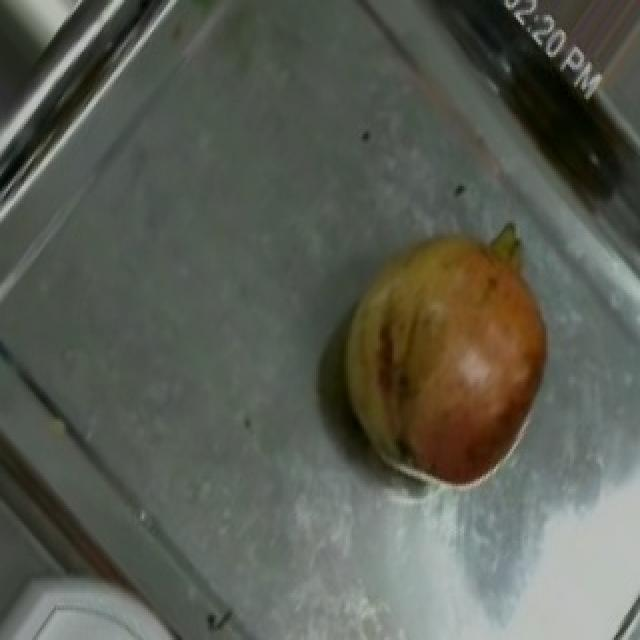fruit: (304, 228, 574, 524)
